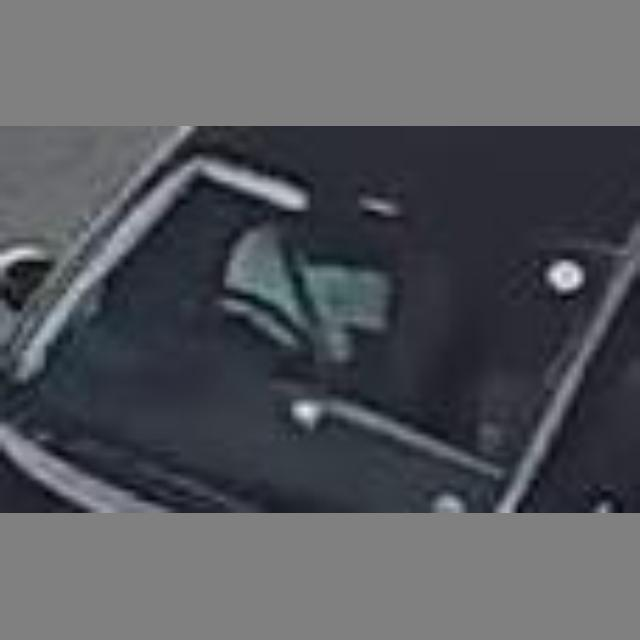pakai: (180, 205, 404, 407)
